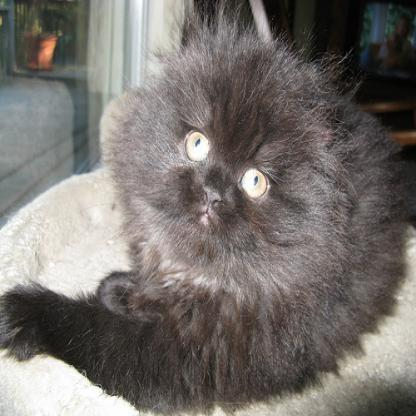cat: (0, 5, 406, 415)
